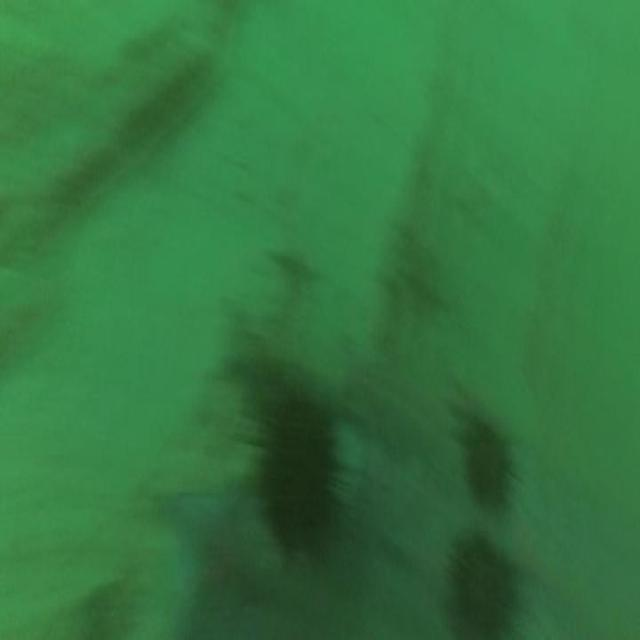echinus: (233, 365, 360, 585), (444, 386, 526, 524), (433, 521, 527, 640)
